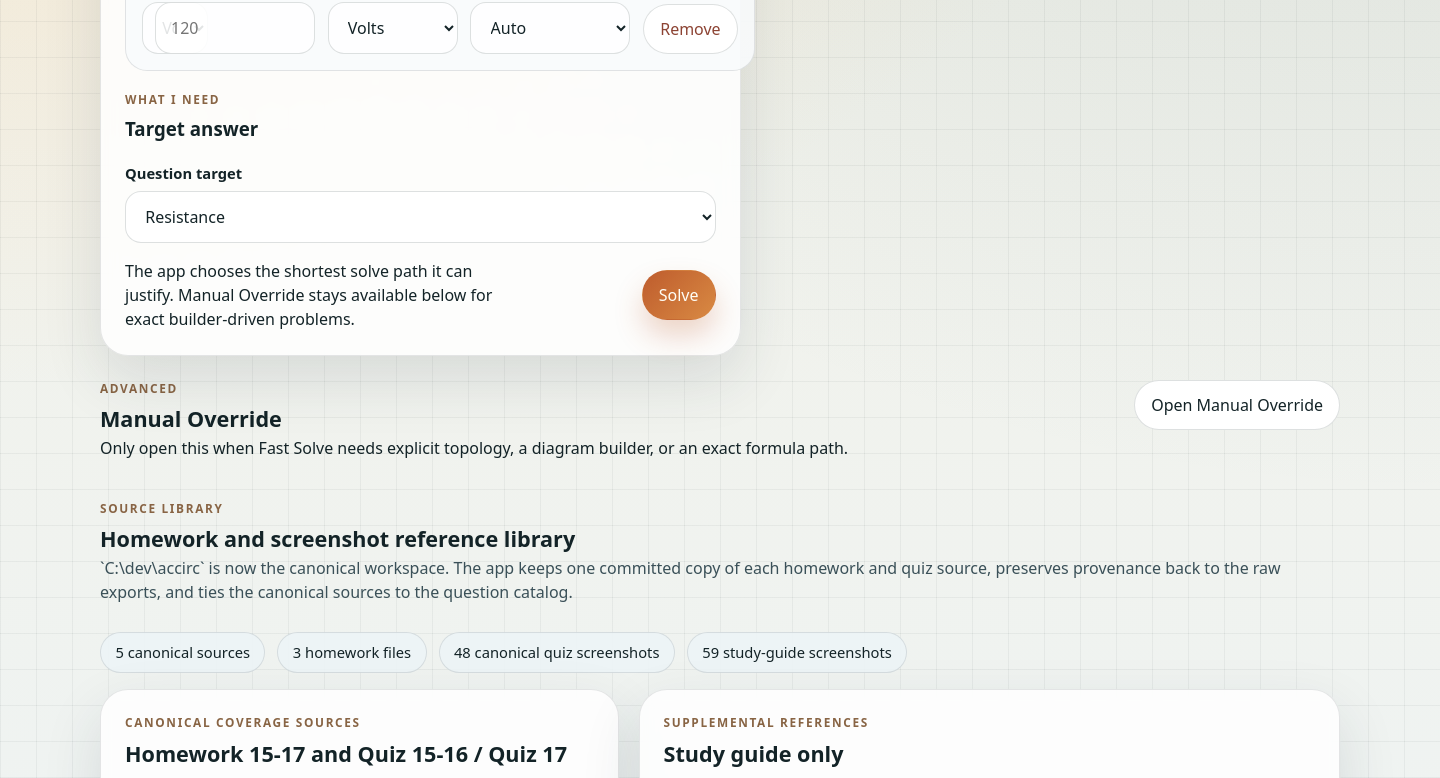
Test: App › keeps the old builders inside Manual Override
The width and height of the screenshot is (1440, 778).
(page scrolled)
Click the button "Open Manual Override".
click(1237, 405)  # box [1134,380,1340,430]
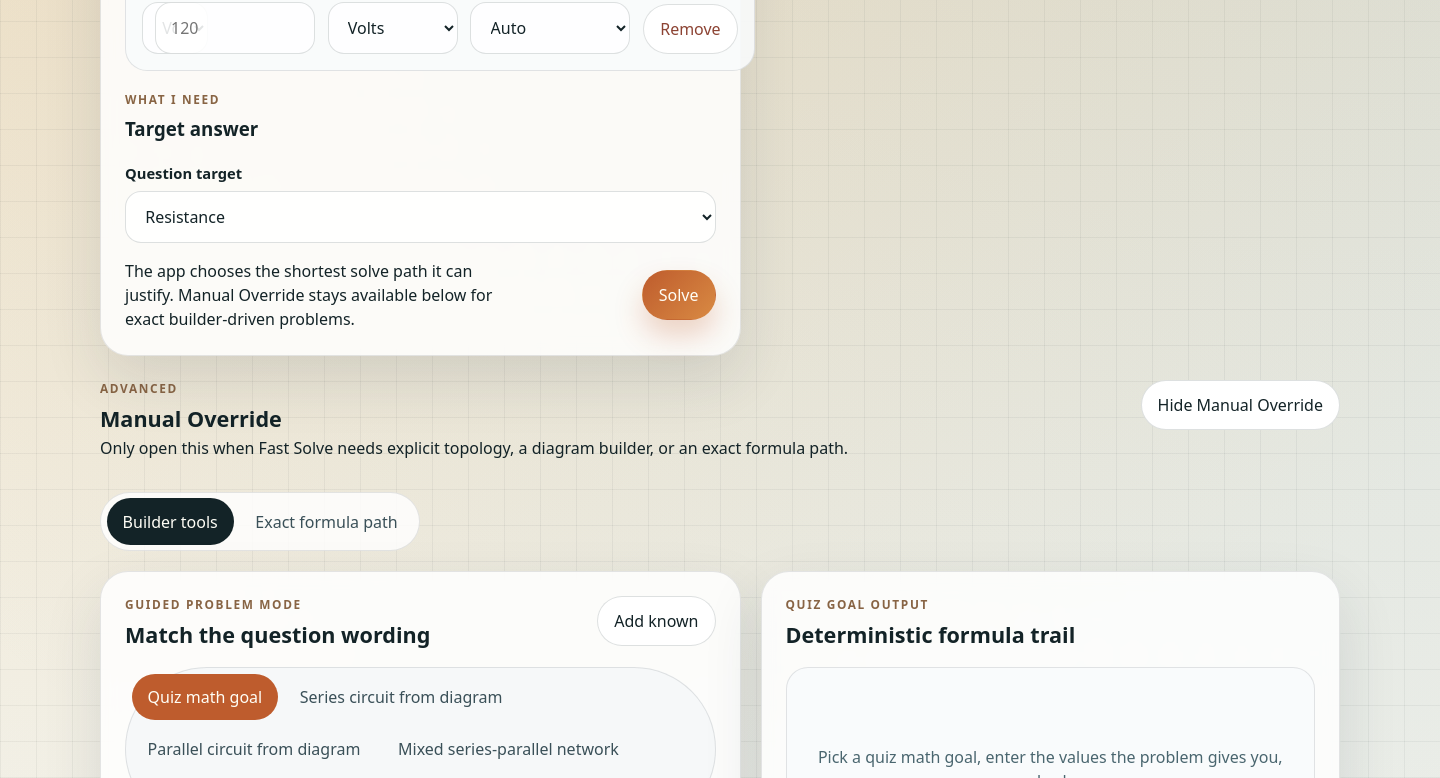
Expected: the tab "Builder tools" is shown, [107,498,234,545]
Expected: the tab "Exact formula path" is shown, [239,498,414,545]
Expected: the tab "Quiz math goal" is shown, [132,674,278,720]
